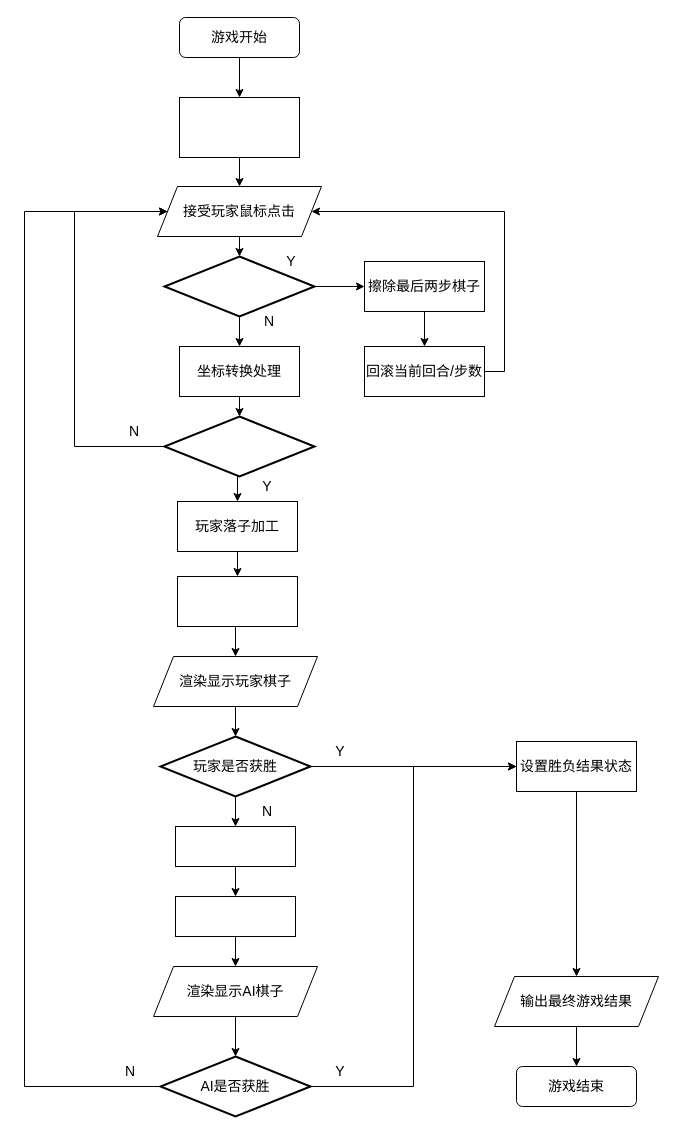
The diagram is 676 pixels wide and 1135 high, and some of its shapes have lost their labels. The box of each missing label's shape, as (x1, y1, x2, y2) in pixels:
AI位置评估计算: (174, 826, 296, 866)
AI落子并更新棋盘: (174, 896, 296, 936)
初始化棋盘数据 和游戏状态: (178, 96, 300, 158)
坐标是否合法: (163, 415, 315, 477)
是否触发悔棋: (163, 255, 315, 317)
更新棋盘数据: (176, 576, 298, 626)
